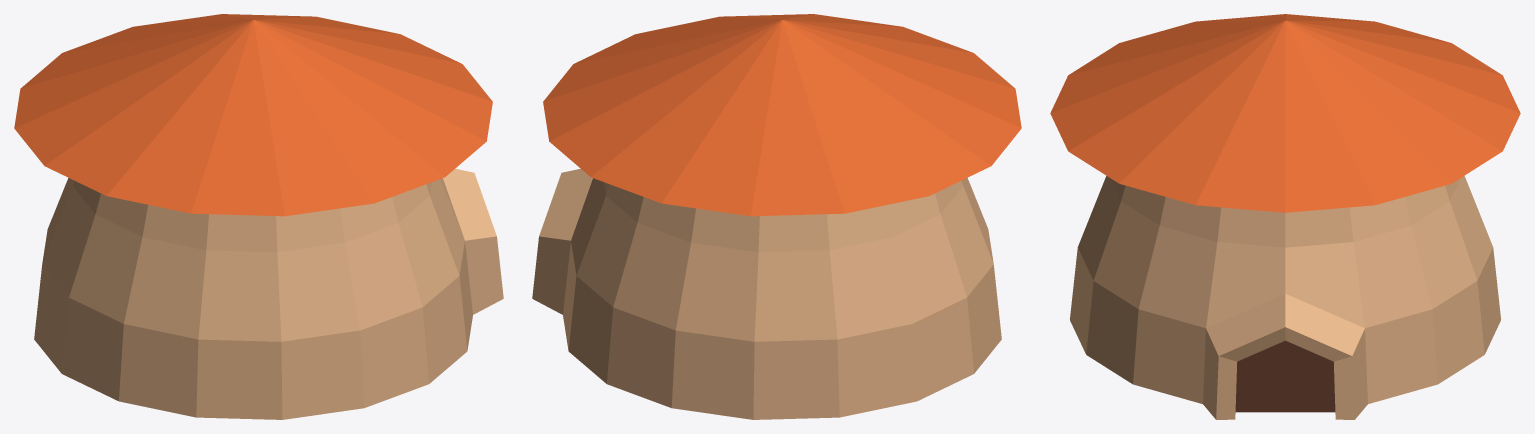
Rendered from ShrimpHouse.fbx.
The picture shows the model from 3 angles, left to right: view 1: azimuth 30°, elevation 25°; view 2: azimuth 150°, elevation 25°; view 3: azimuth 270°, elevation 25°; orthographic projection. The views are drawn at different scales.
Visible parts, largest first — view 1: Cylinder; view 2: Cylinder; view 3: Cylinder.
Boxes of the visible parts, x1,y1,x2,y2 form: Cylinder: (14, 14, 503, 419); Cylinder: (532, 14, 1021, 419); Cylinder: (1050, 14, 1520, 419).
Bounding box in the file's own units: 224 × 153 × 218.
